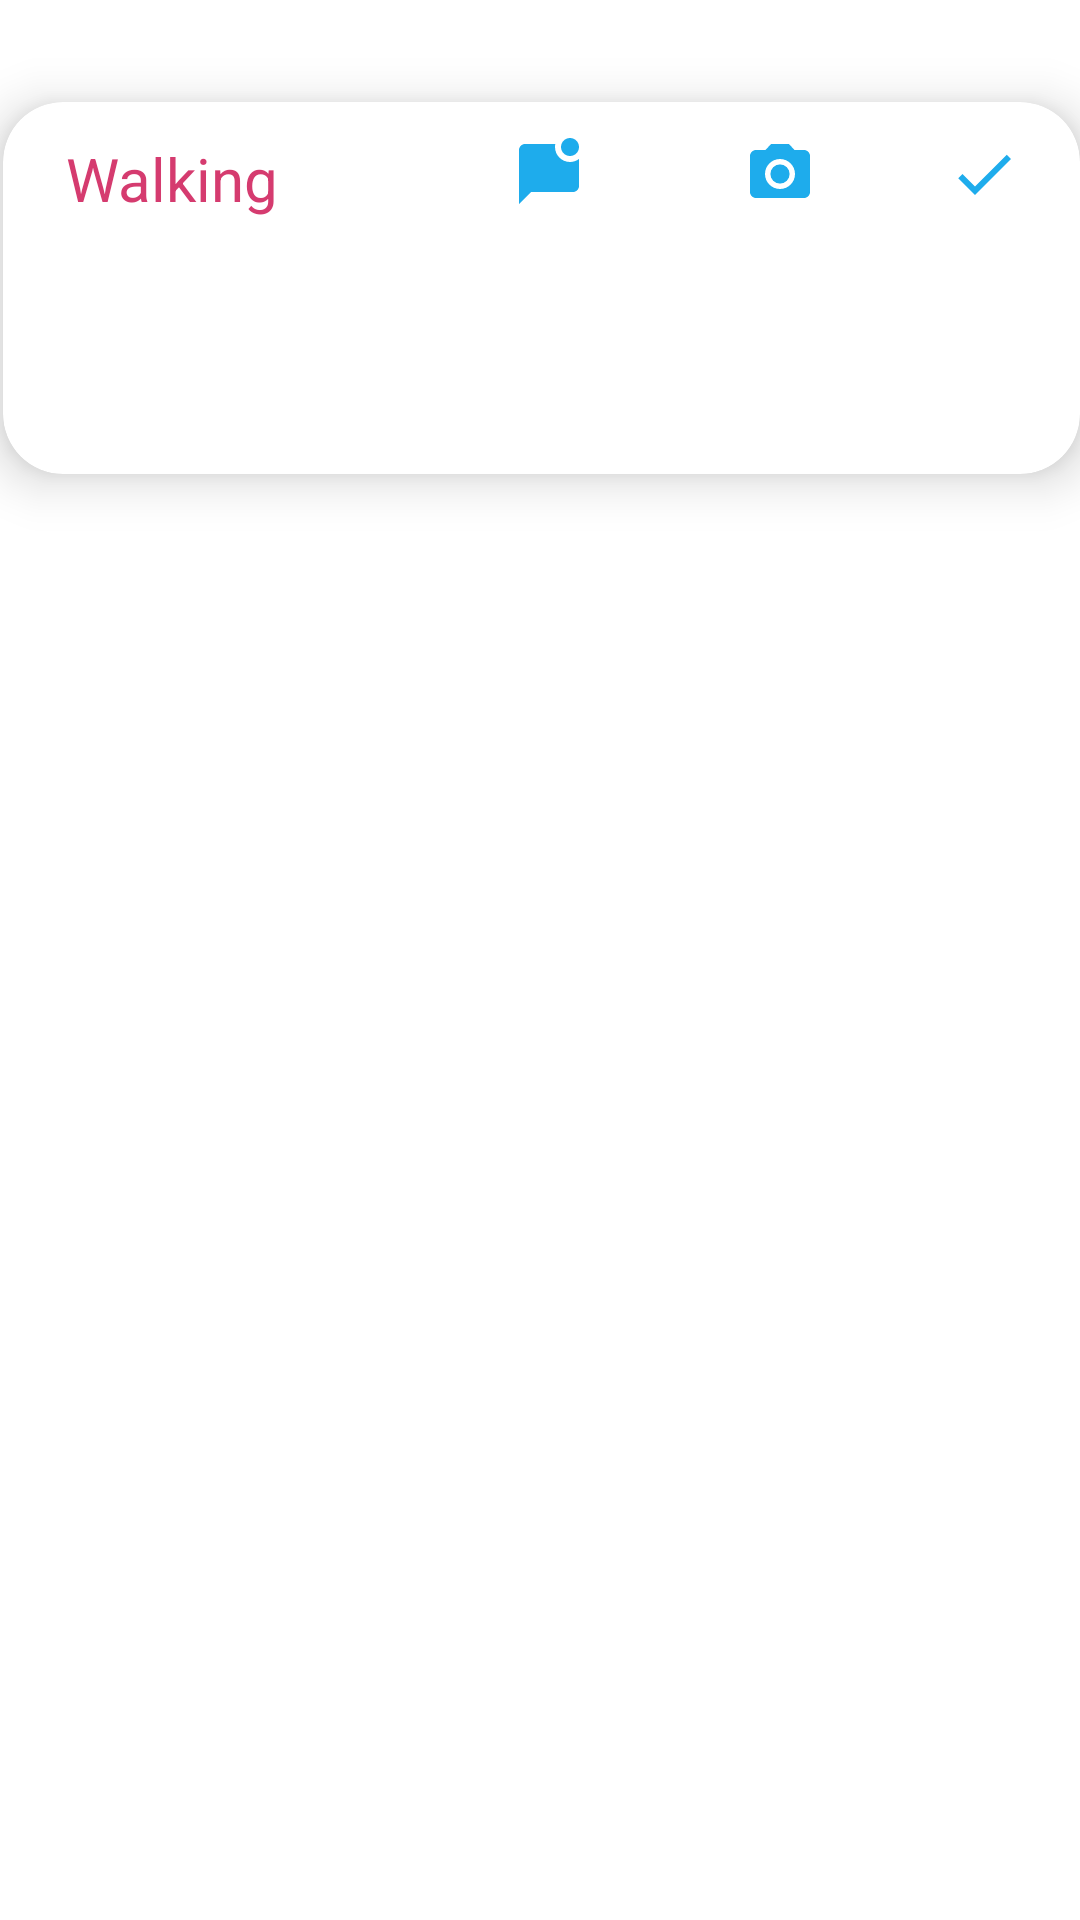

Named icons in this screenshot (1080×1920) and their bounding boxes, (x1, y1, x2, y2):
camera: (750, 144, 810, 198)
chat unread: (519, 138, 579, 204)
check: (958, 155, 1011, 195)
